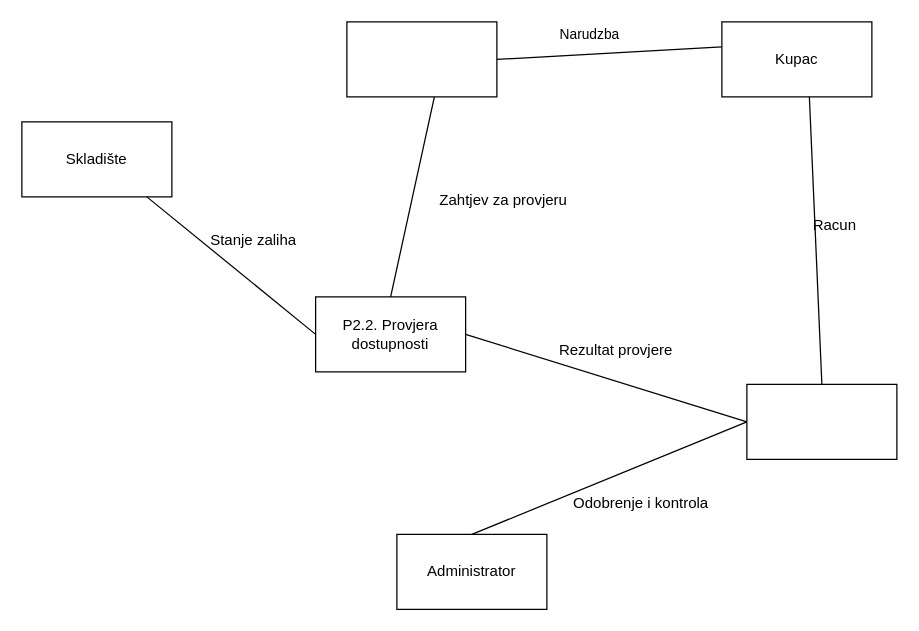
The diagram is 919 pixels wide and 631 high, and some of its shapes have lost their labels. Here are the shapes that lost their labels. From the top down, the centre of each, then its label:
the point at 421,59: P2.1. Zaprimanje narudzbe
the point at 821,421: P2.3. Izdavanje racuna
